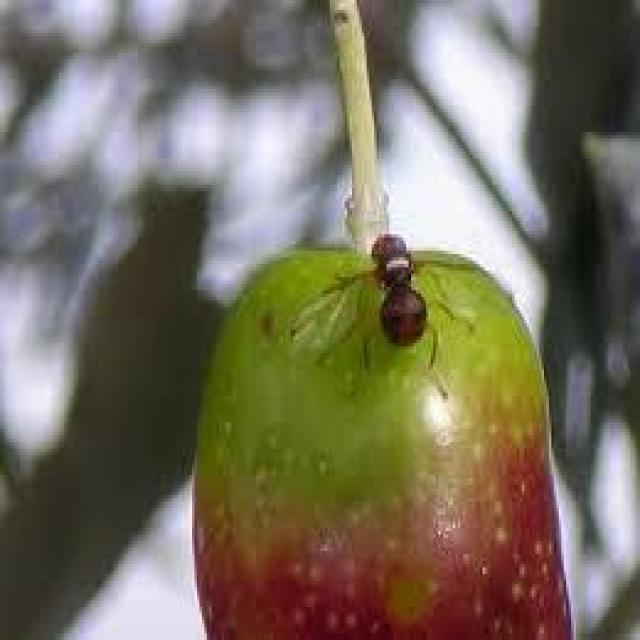Olive Fruit Fly: (194, 238, 571, 637)
